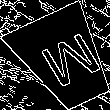M_SE: (28, 26, 101, 92)
